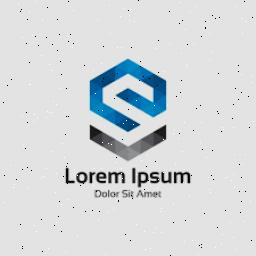a: (136, 188, 144, 200)
d: (94, 189, 102, 199)
e: (96, 170, 108, 184)
i: (132, 166, 136, 186)
l: (62, 164, 76, 186)
o: (76, 169, 90, 185)
